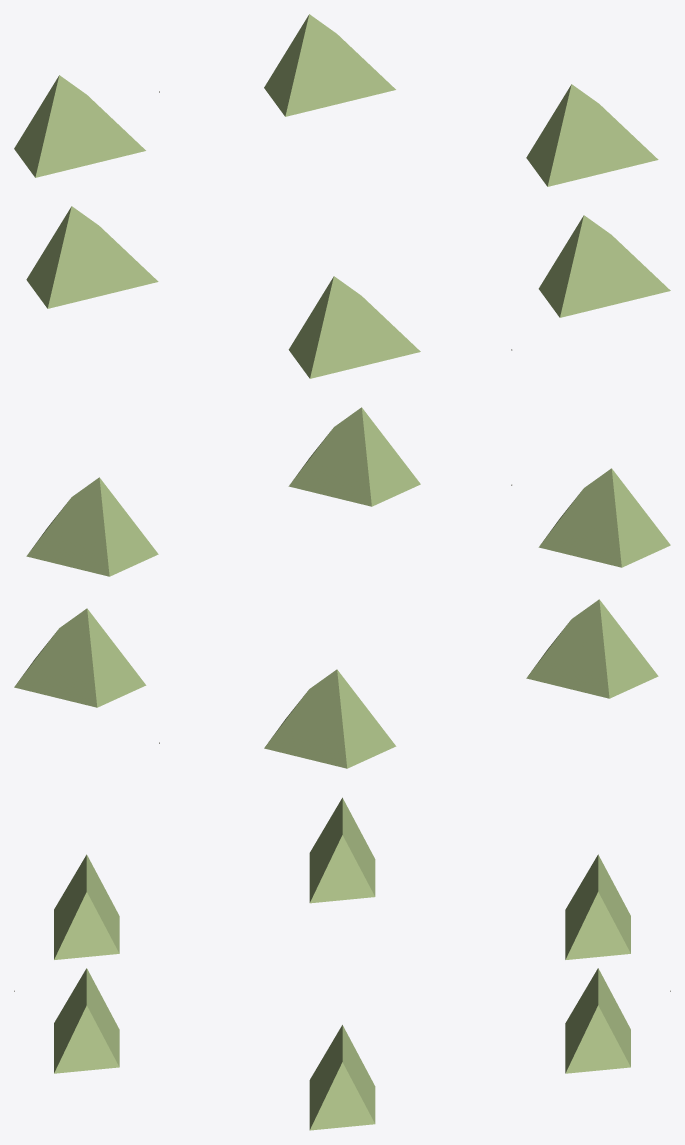
Rendered from backdrop-rural.glb.
3 renders of one model, top to bottom at view 1: azimuth 30°, elevation 25°; view 2: azimuth 150°, elevation 25°; view 3: azimuth 270°, elevation 25°, orthographic. The views are drawn at different scales.
Visible parts, largest first — view 1: backdrop-rural; view 2: backdrop-rural; view 3: backdrop-rural.
Part boxes in pixels (<box>): backdrop-rural: <box>14,14,670,378</box>; backdrop-rural: <box>14,407,670,768</box>; backdrop-rural: <box>14,797,670,1130</box>.
Bounding box in the file's own units: 40 × 5 × 40.
